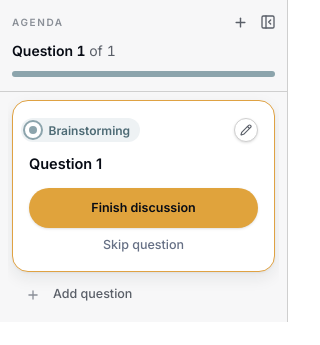
Test: AgendaPanel brainstorm-only questions (F41) › holds the vote change while a phase change is still being saved
The image size is (320, 345).
Click the button "Finish discussion" at (144, 208), box 29,188 -> 258,228
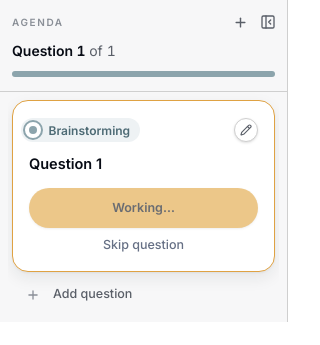
Click the button named "Edit question 1" at (246, 130), box 234,118 -> 258,142
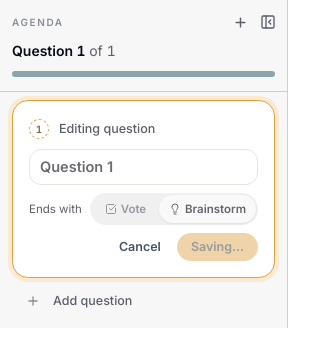
Expected: the radio button labelled "Vote" is disabled, 92,195 -> 159,223
